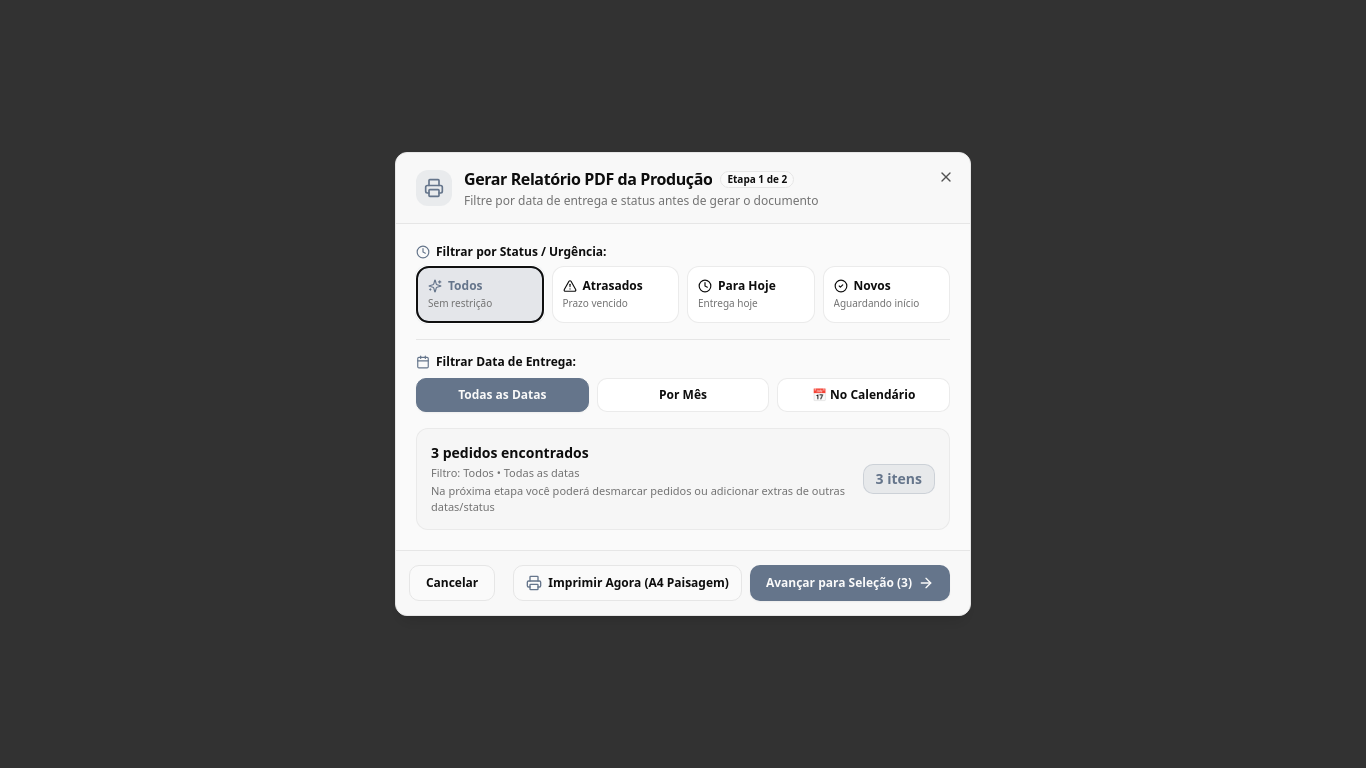
it: ModalImpressaoDashboard › deve avançar para a Etapa 2 e exibir os pedidos com checkboxes pré-marcados
The image size is (1366, 768).
# Clicar em "Avançar para Seleção"
Click the button "Avançar para Seleção (3)" at (850, 583), box [750,565,950,601]
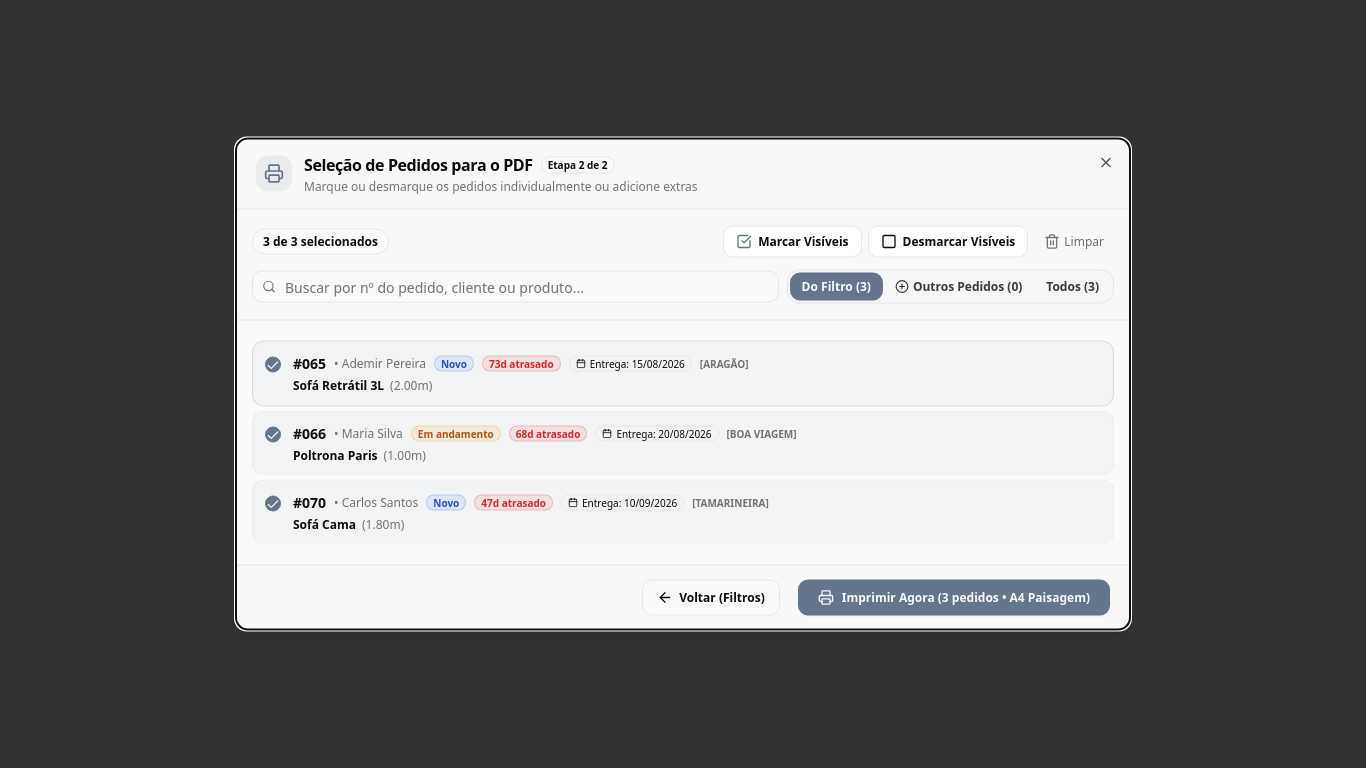
Expected: the heading "Seleção de Pedidos para o PDF" is shown, [304,152,533,176]
Expected: the text "#065" is shown, [293,354,326,374]
Expected: the text "#066" is shown, [293,424,326,444]
